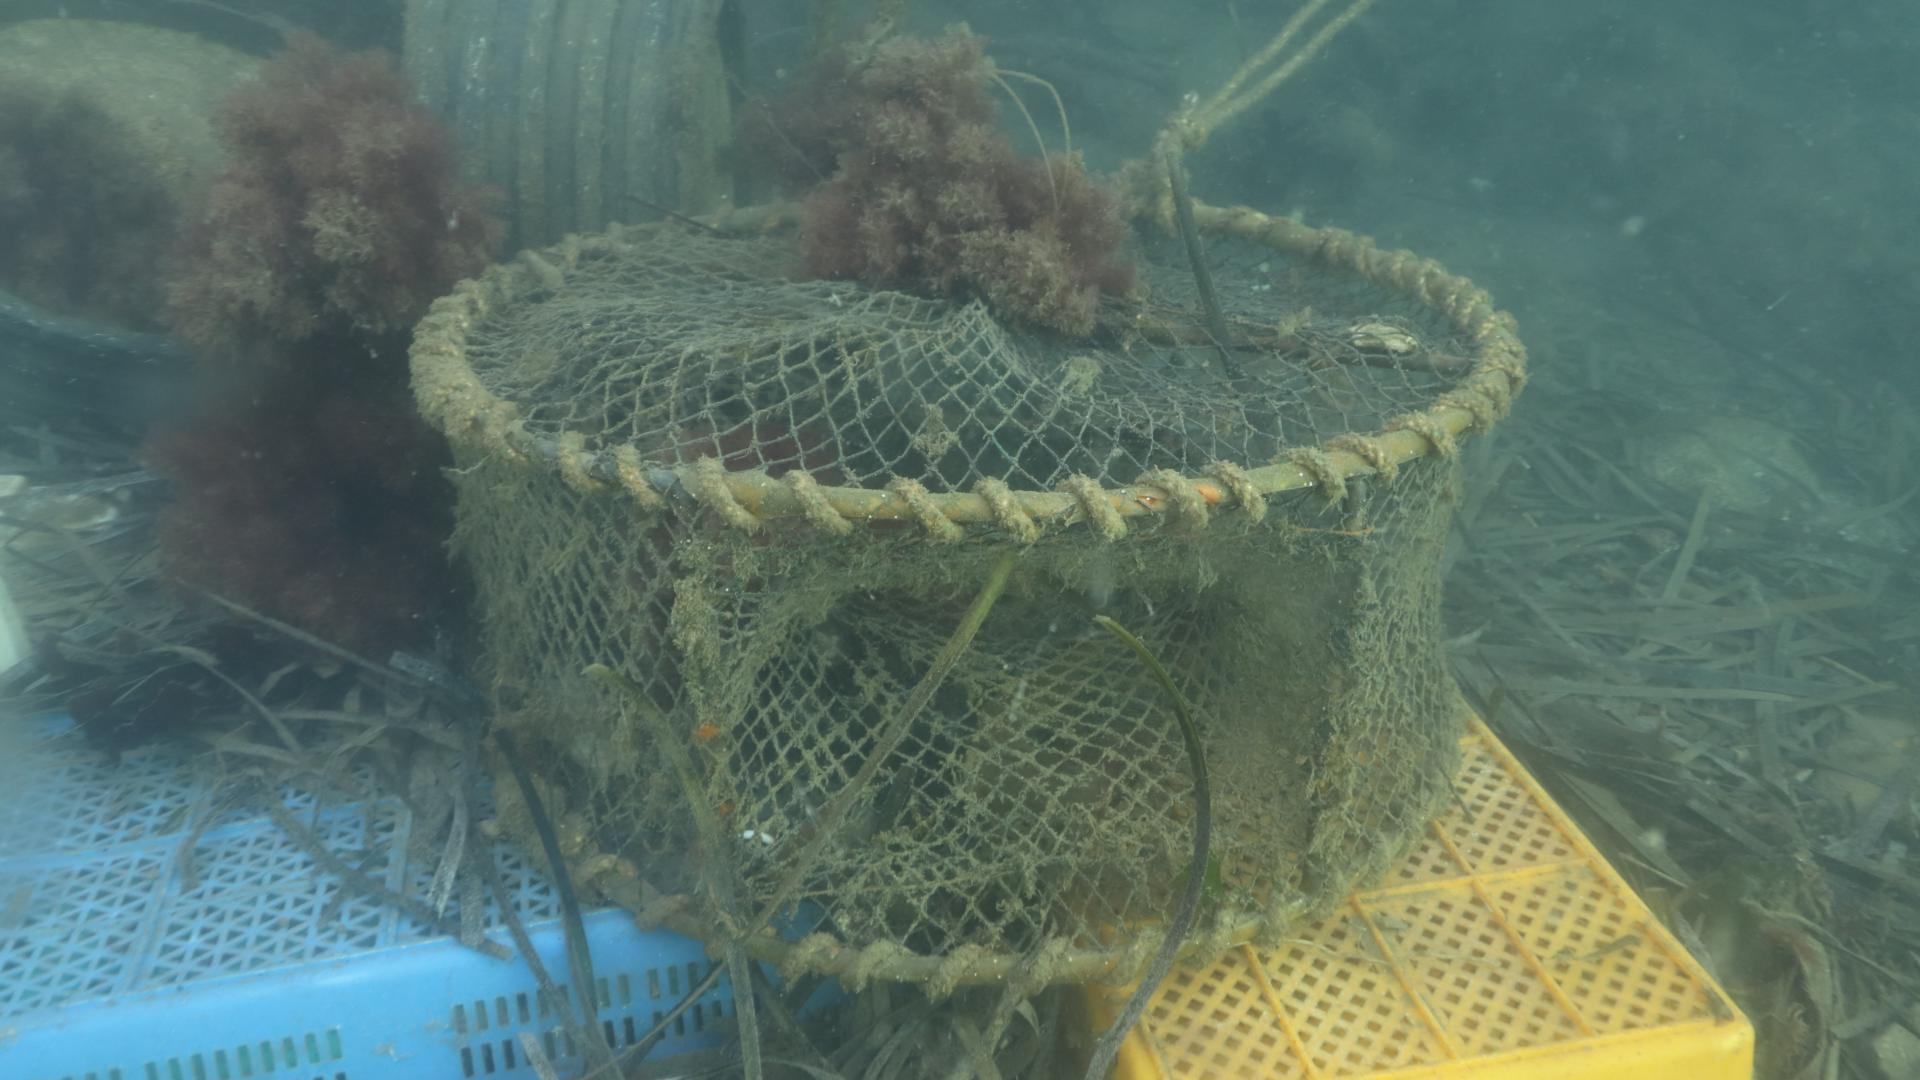bundle of ropes: (1117, 0, 1383, 186)
circular fish trap: (405, 185, 1528, 986)
